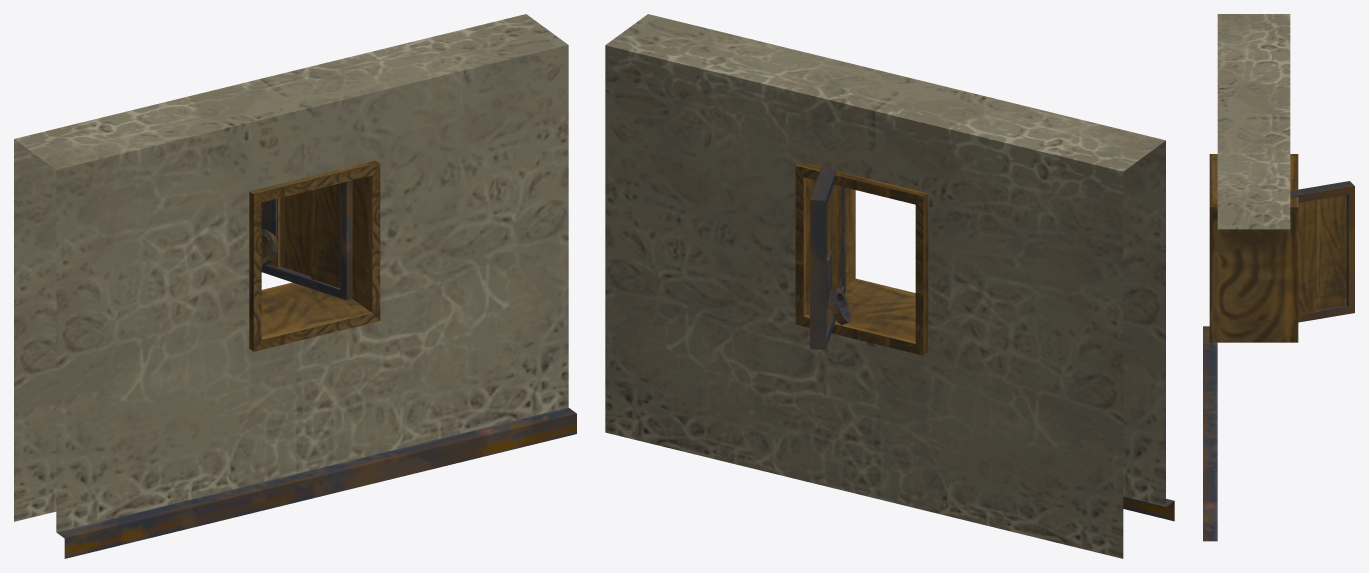
The model's file is BrickWW_5X7_V1.fbx.
3 renders of one model, left to right at view 1: azimuth 30°, elevation 25°; view 2: azimuth 150°, elevation 25°; view 3: azimuth 270°, elevation 25°, orthographic. The views are drawn at different scales.
Visible parts, largest first — view 1: BrickWW_5X7_V1; view 2: BrickWW_5X7_V1; view 3: BrickWW_5X7_V1.
Boxes of the visible parts, left/top/right/bottom form: BrickWW_5X7_V1: left=14, top=14, right=576, bottom=558; BrickWW_5X7_V1: left=605, top=14, right=1174, bottom=558; BrickWW_5X7_V1: left=1203, top=14, right=1354, bottom=541.
Bounding box in the file's own units: 7000 × 5000 × 2086.
